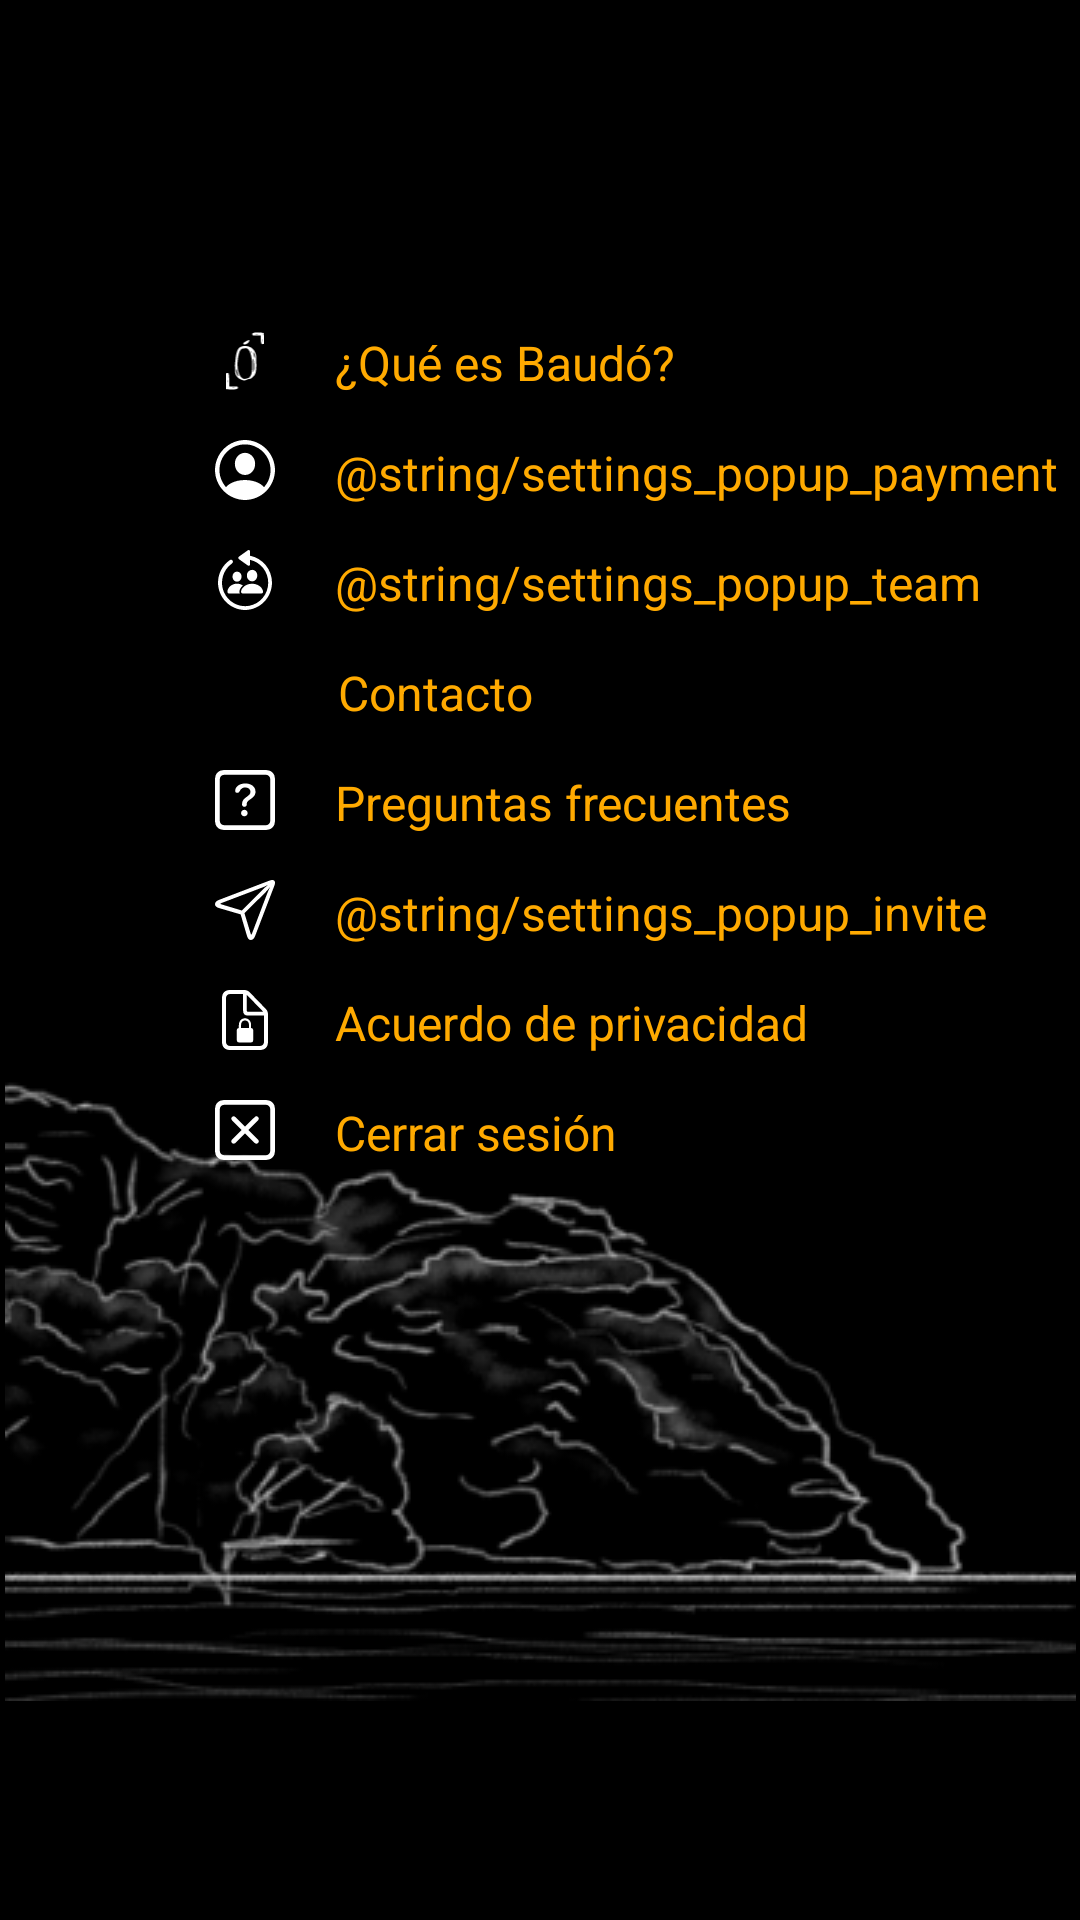

Icon bounding boxes for this 1080*1920 phone screenshot, format [x1, y1, x2, y2]:
disconnect: [215, 1100, 275, 1160]
faq: [215, 770, 275, 830]
privacy: [222, 990, 268, 1050]
